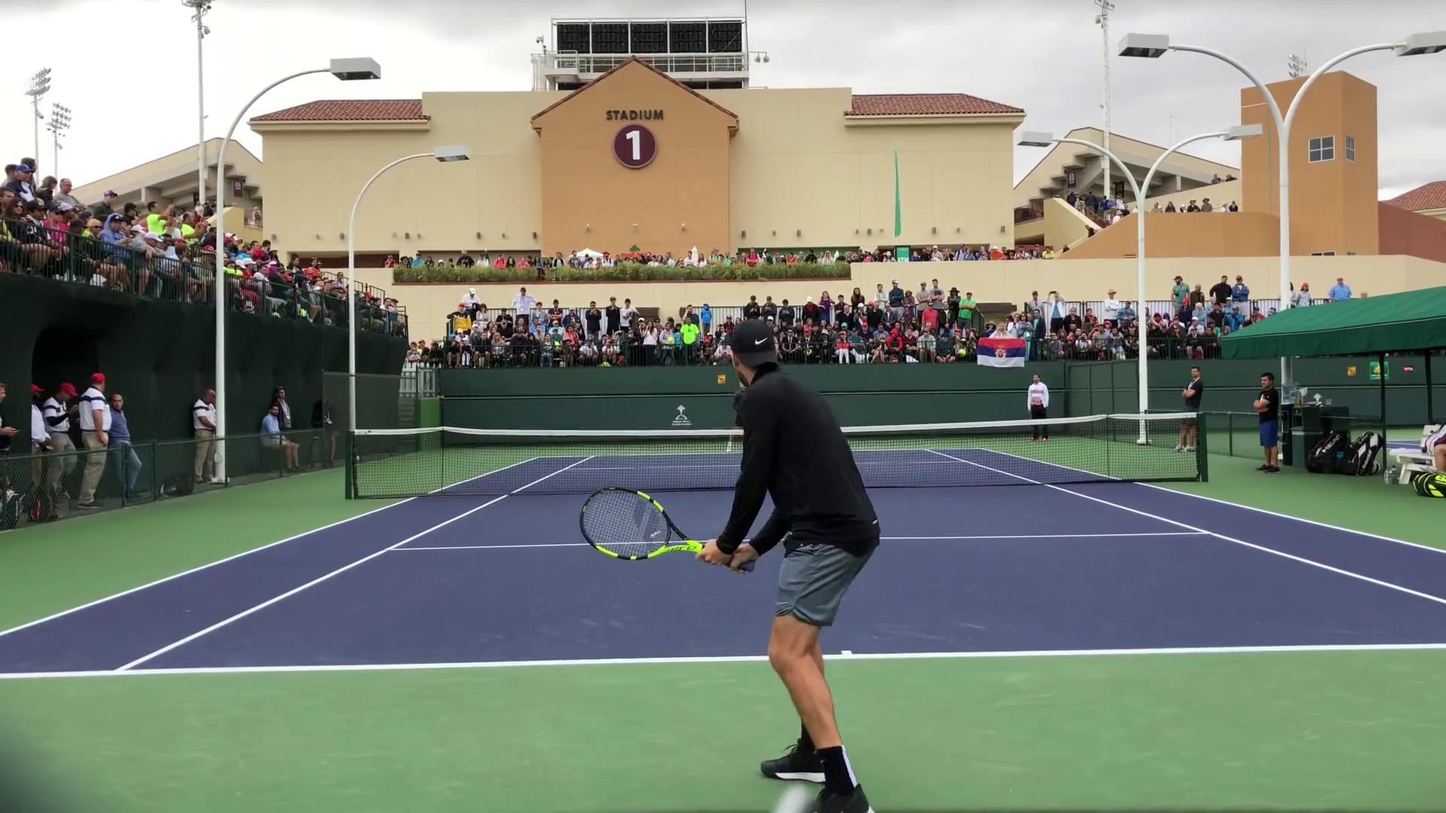ball: (253, 208, 258, 213)
